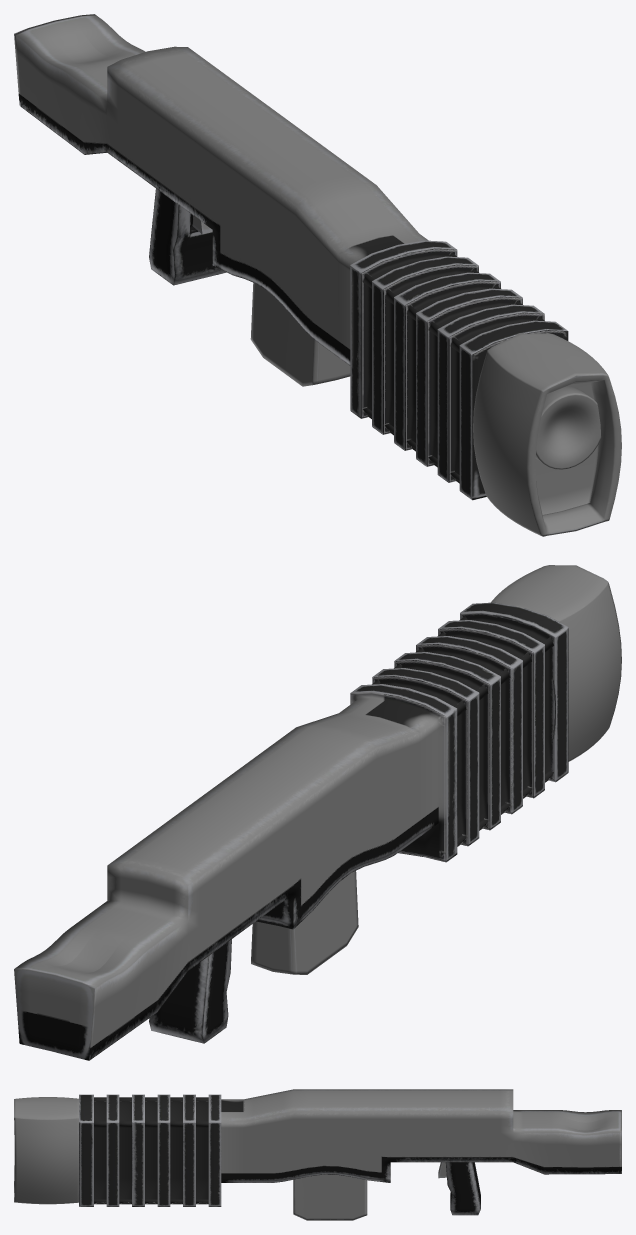
File: laser-1.FBX
3 renders of one model, top to bottom at view 1: azimuth 30°, elevation 25°; view 2: azimuth 150°, elevation 25°; view 3: azimuth 270°, elevation 25°, orthographic. The views are drawn at different scales.
Visible parts, largest first — view 1: Laser_m_low, Laser_end_low, Laser_clip_low, Laser_baral_low; view 2: Laser_m_low, Laser_end_low, Laser_clip_low; view 3: Laser_m_low, Laser_end_low, Laser_clip_low.
Boxes of the visible parts, left/top/right/bottom form: Laser_m_low: left=14, top=14, right=568, bottom=500; Laser_end_low: left=473, top=333, right=621, bottom=536; Laser_clip_low: left=250, top=283, right=350, bottom=386; Laser_baral_low: left=535, top=386, right=601, bottom=469; Laser_m_low: left=14, top=602, right=568, bottom=1060; Laser_end_low: left=491, top=565, right=621, bottom=761; Laser_clip_low: left=251, top=871, right=358, bottom=974; Laser_m_low: left=79, top=1089, right=621, bottom=1215; Laser_end_low: left=14, top=1097, right=79, bottom=1204; Laser_clip_low: left=293, top=1174, right=367, bottom=1220.
Size of the model in its own units: 0.2941 by 0.5192 by 2.44.
4 materials, 4 textured.
